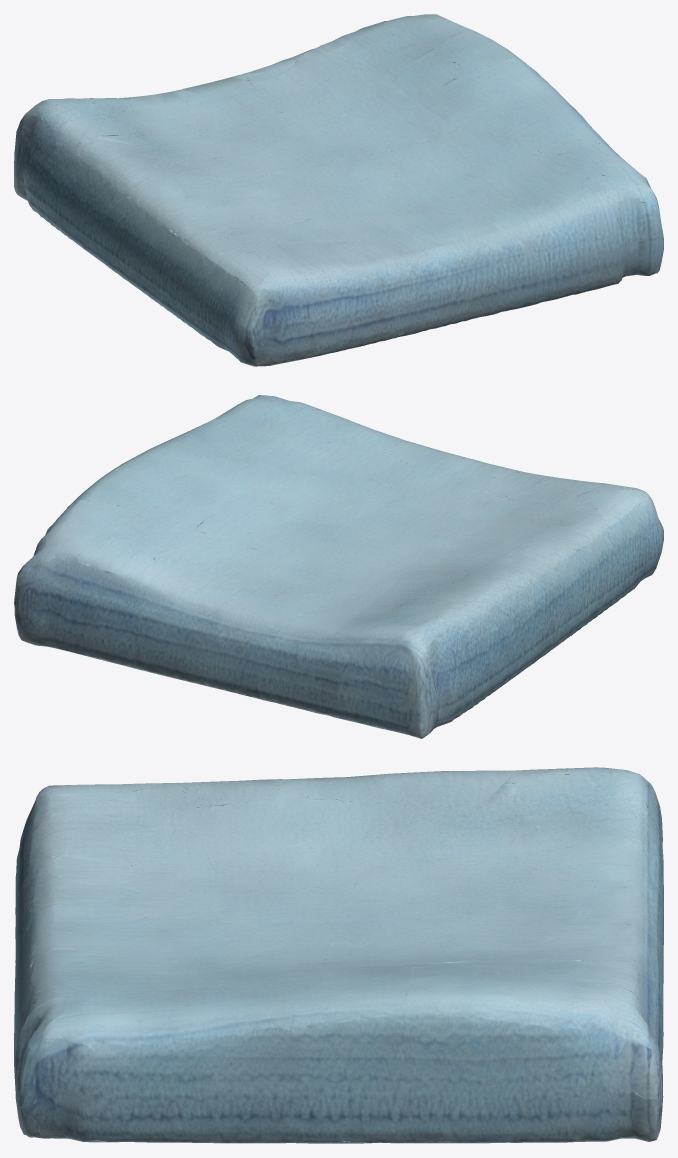
3 views of the same model, one above another, from view 1: azimuth 30°, elevation 25°; view 2: azimuth 150°, elevation 25°; view 3: azimuth 270°, elevation 25° (orthographic). The views are drawn at different scales.
Visible parts, largest first — view 1: Model; view 2: Model; view 3: Model.
Part boxes in pixels (x1,y1,x2,y2): Model: (14,14,663,366); Model: (14,395,663,738); Model: (14,767,663,1143).
Bounding box in the file's own units: 0.1 × 0.1 × 0.025.
Materials: 1 (1 with a texture image).
